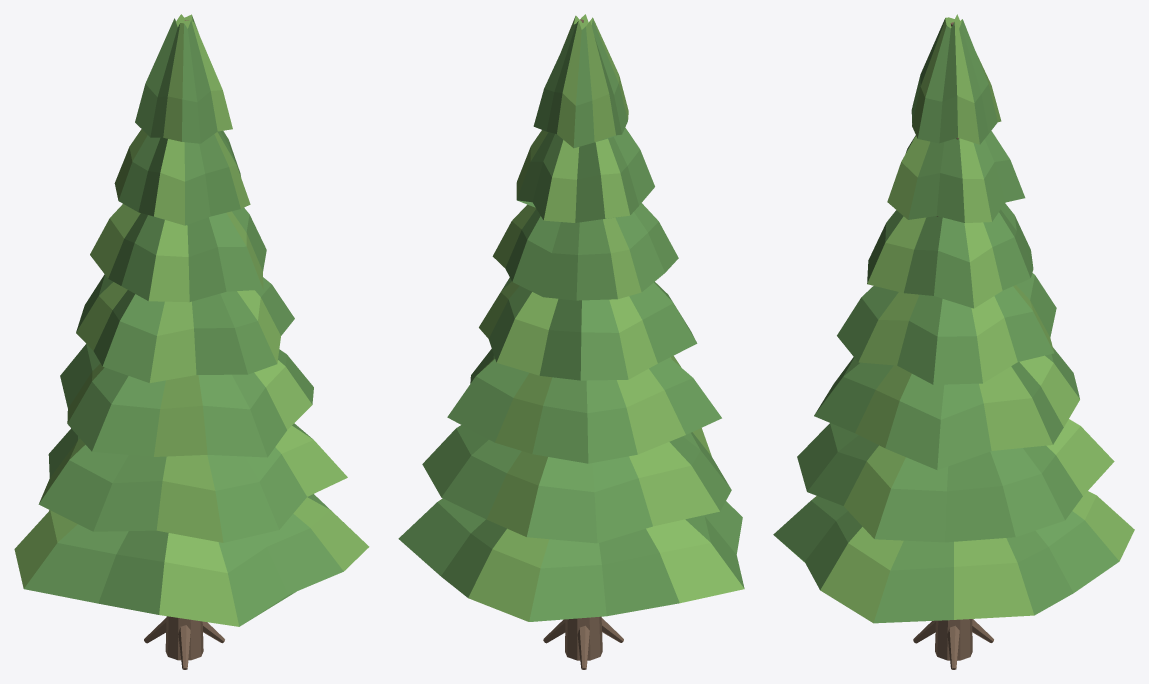
The model's file is Tree_Pine.fbx.
3 renders of one model, left to right at view 1: azimuth 30°, elevation 25°; view 2: azimuth 150°, elevation 25°; view 3: azimuth 270°, elevation 25°, orthographic.
Visible parts, largest first — view 1: Tree_Pine; view 2: Tree_Pine; view 3: Tree_Pine.
Boxes of the visible parts, x1=… form: Tree_Pine: x1=14, y1=14, x2=369, y2=669; Tree_Pine: x1=398, y1=14, x2=744, y2=669; Tree_Pine: x1=773, y1=14, x2=1134, y2=669.
Bounding box in the file's own units: 314 × 620 × 320.
